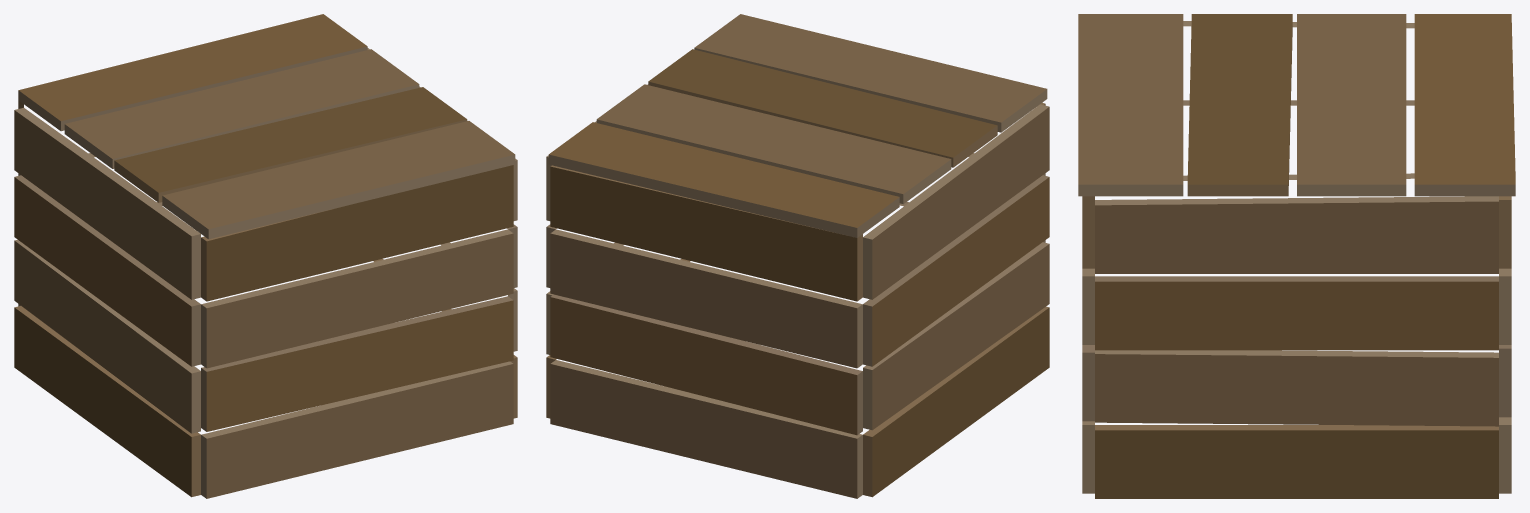
The picture shows the model from 3 angles, left to right: view 1: azimuth 30°, elevation 25°; view 2: azimuth 150°, elevation 25°; view 3: azimuth 270°, elevation 25°; orthographic projection. The views are drawn at different scales.
Size of the model in its own units: 102 by 81 by 104.
1 material, 1 textured.
